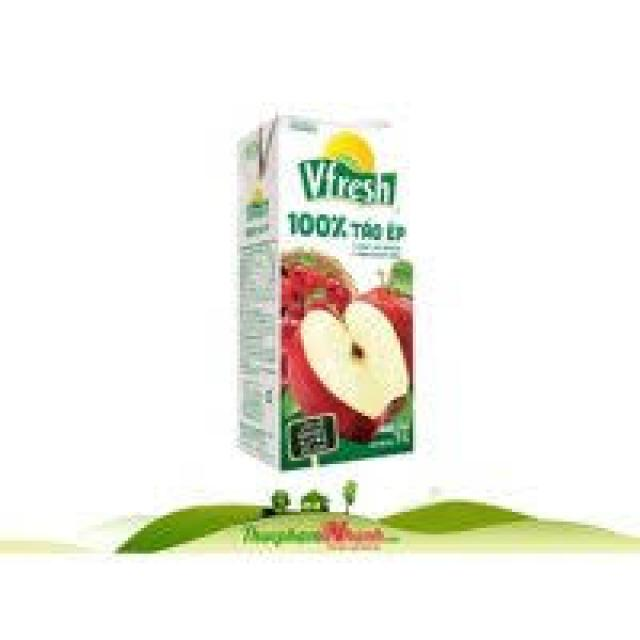non_white_jug: (230, 93, 426, 464)
